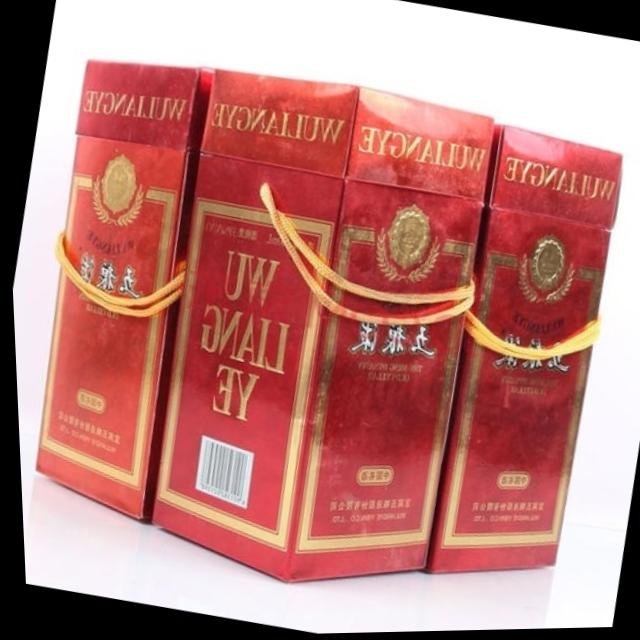box: (146, 69, 495, 584), (419, 124, 620, 572), (33, 58, 216, 524)
